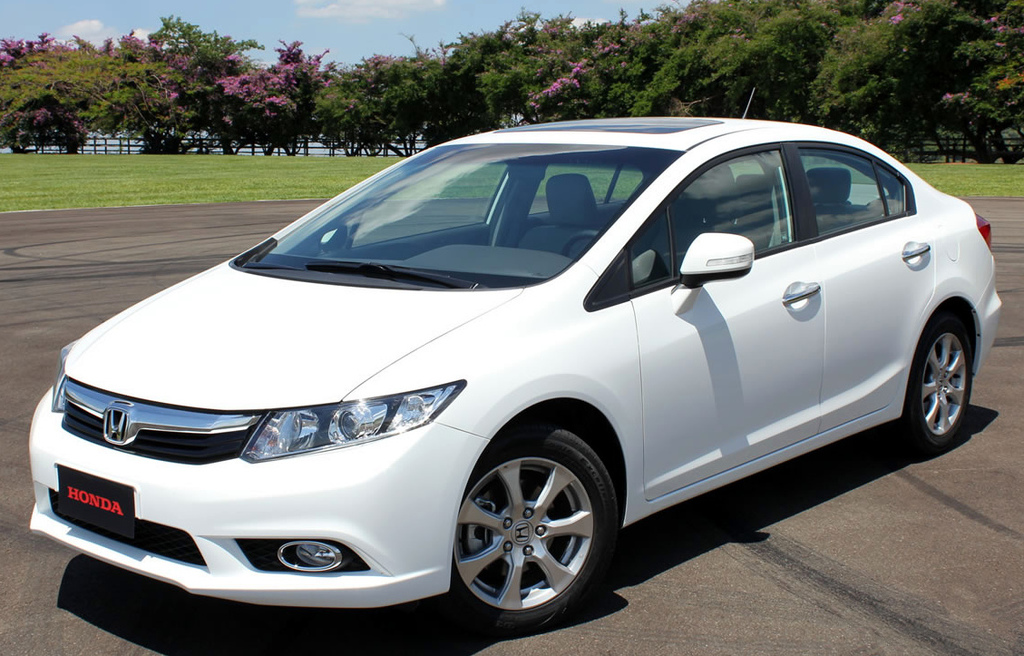Car: (29, 86, 1002, 638)
